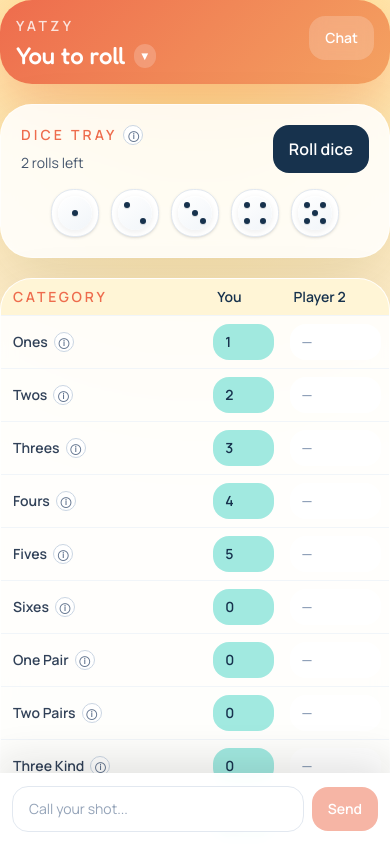
Test: YatzyTable chat layout › hides floating composer when overlay is open
This screenshot has width=390, height=844.
Click the button "Chat".
click(342, 38)  # box [309,16,374,60]
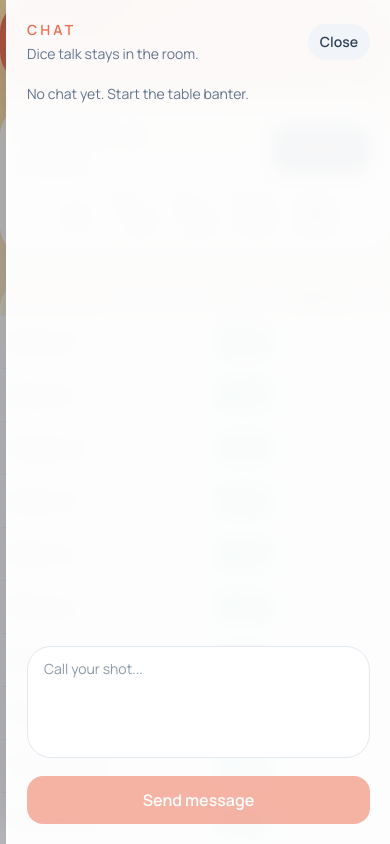
Expected: the element with test id "chat-float-composer" is gone
